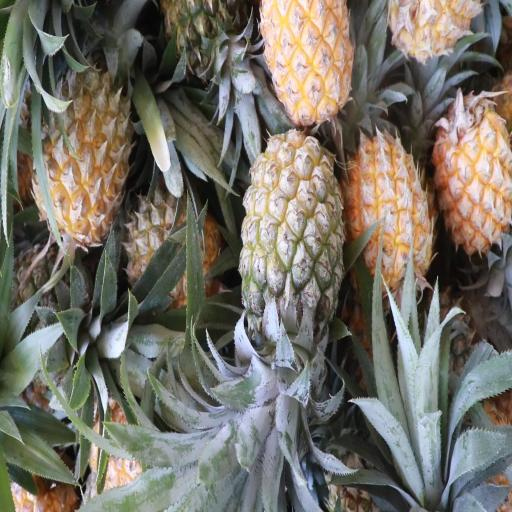------------------------------: (240, 128, 345, 347), (127, 190, 216, 317)
Pineapple - v8 v1: (39, 68, 134, 242), (348, 133, 432, 290), (432, 97, 512, 251), (259, 0, 354, 126)
